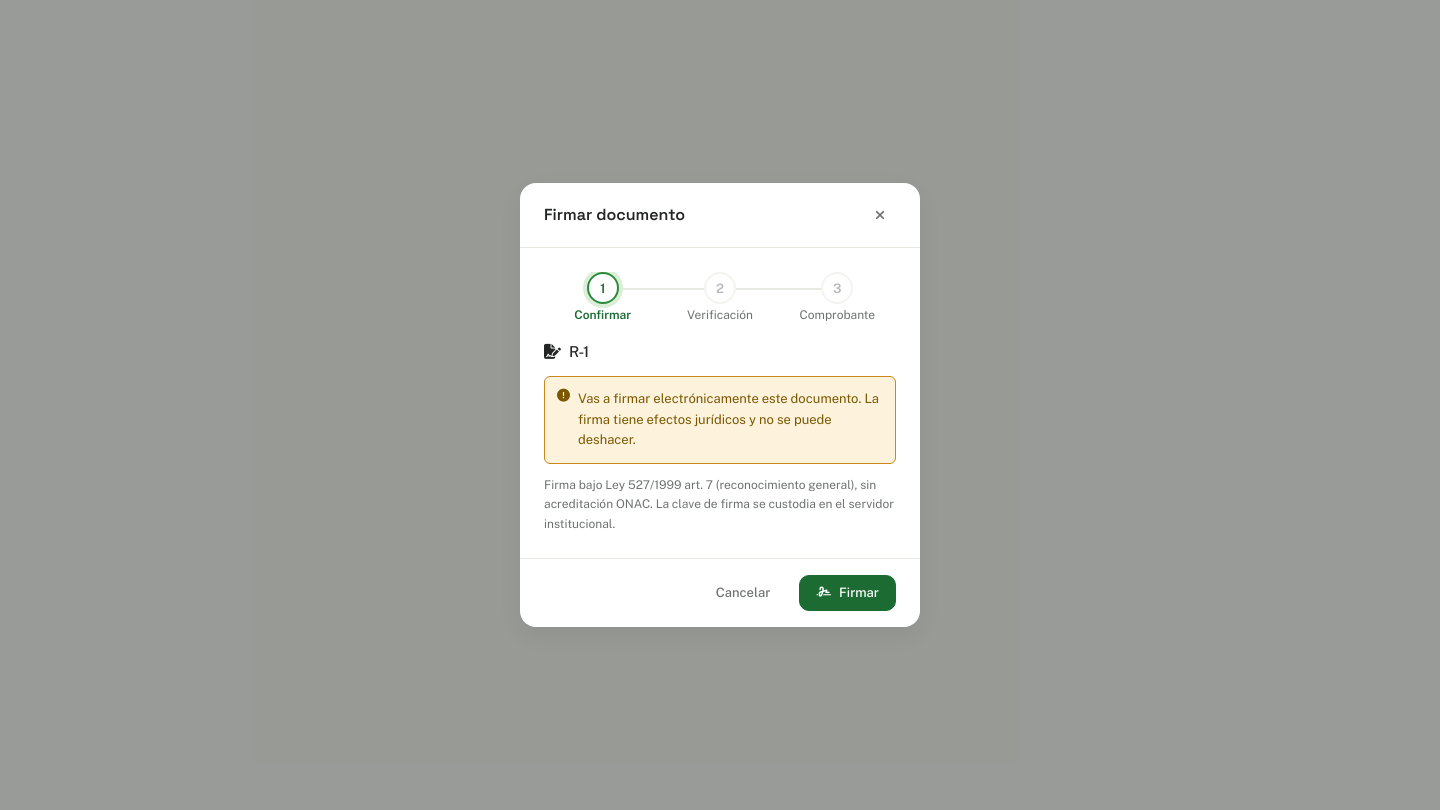
SignAssistant — 2fa_requerido con app autenticadora activa › sin app activa se comporta como siempre: reto por correo
Click the 2nd button named "Firmar".
click(848, 593)  # box [799,575,896,611]
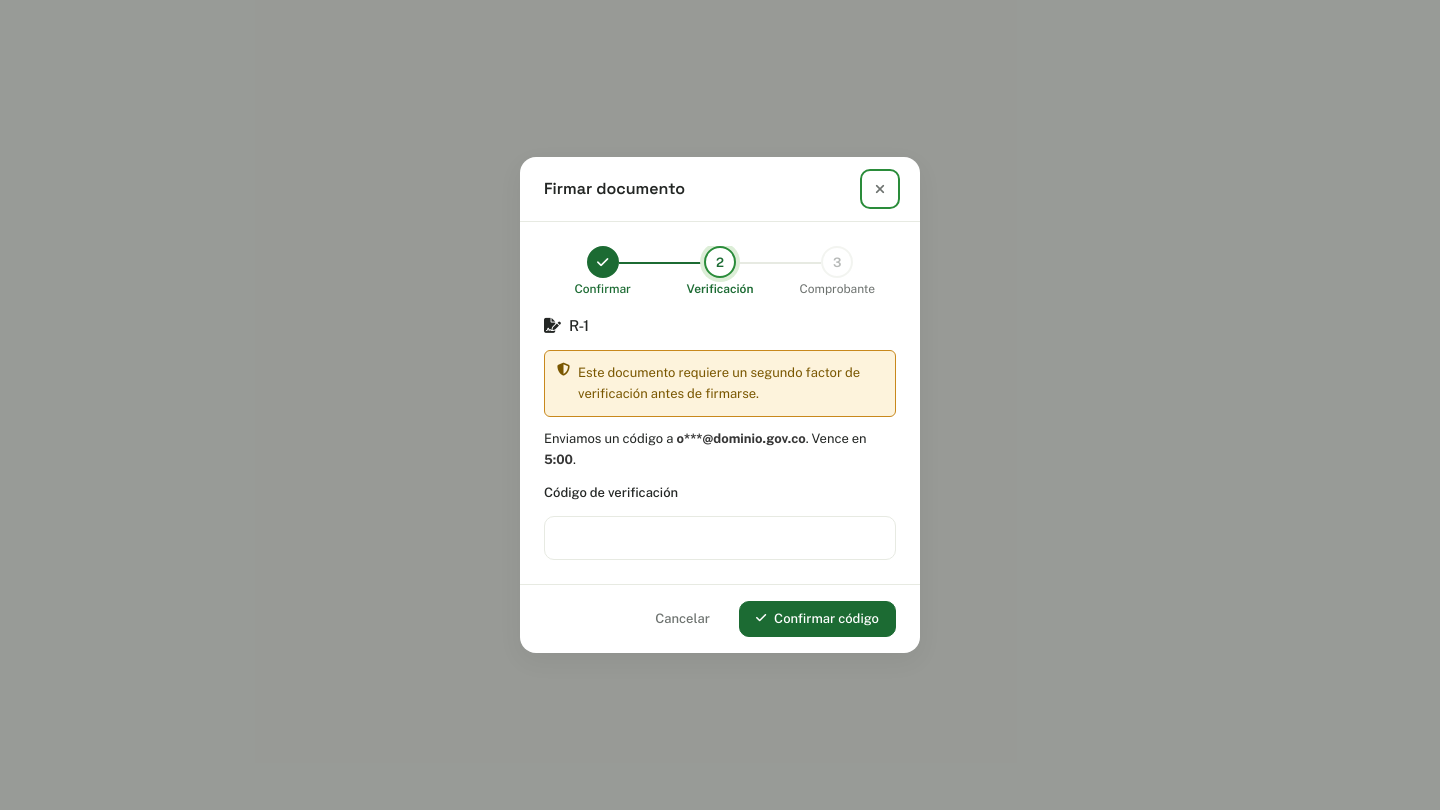
Expected: the field labelled "Código de verificación" is shown, [544,516,896,560]
